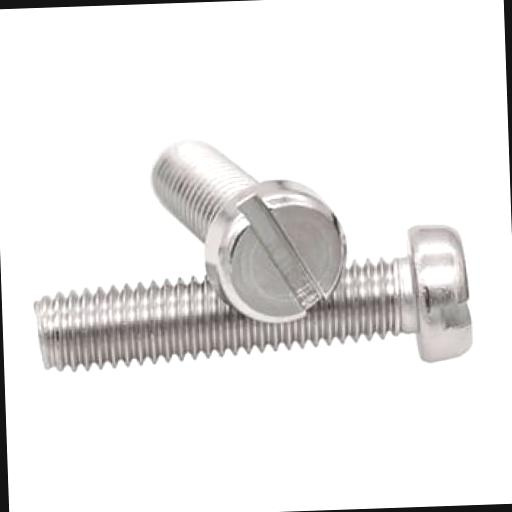Slotted: (204, 177, 349, 326)
